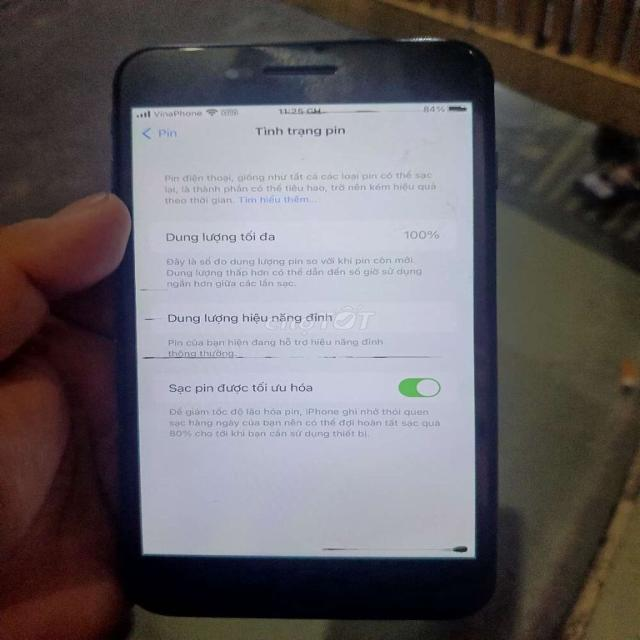scratch: (394, 34, 488, 56), (175, 41, 209, 54)
screen_defect: (136, 351, 454, 362), (312, 543, 471, 557), (132, 283, 176, 295), (132, 313, 168, 324)
